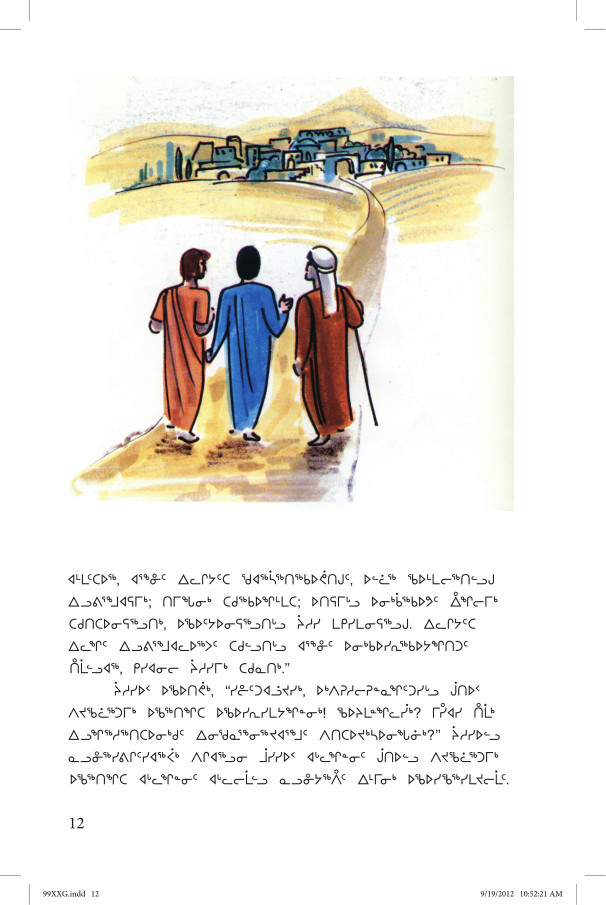inuktitut: (60, 558, 517, 800)
